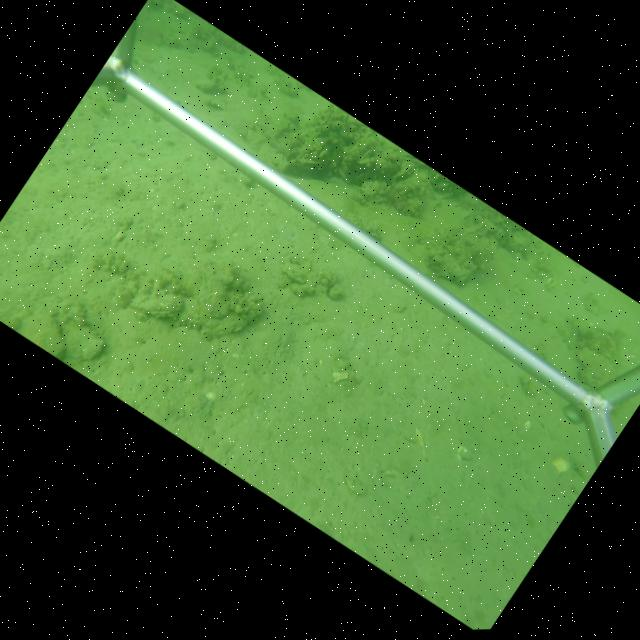Oyster-Closed: (127, 291, 187, 319), (280, 155, 326, 177), (267, 137, 283, 153)
Oyster-Indeterminate: (59, 313, 108, 364), (424, 248, 474, 284), (576, 345, 616, 389)
